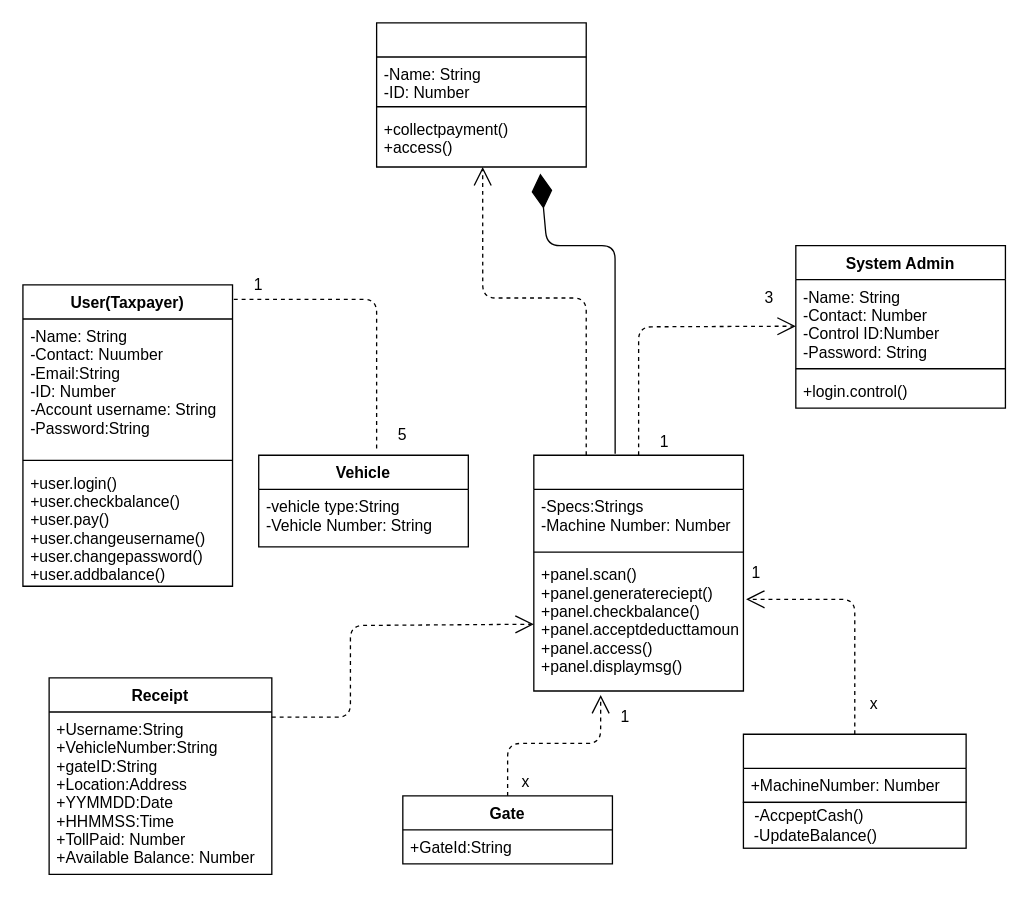
Image size: 1028x901. Some labels were removed from this diagram. The shapes that lost their labels are listed below. From the top down, each one's box as (x1, y1, x2, y2) in pixels, then its label:
(375, 22, 586, 167): Toll Plaza
(533, 454, 743, 691): Control Panel
(742, 733, 966, 802): Cash Register
